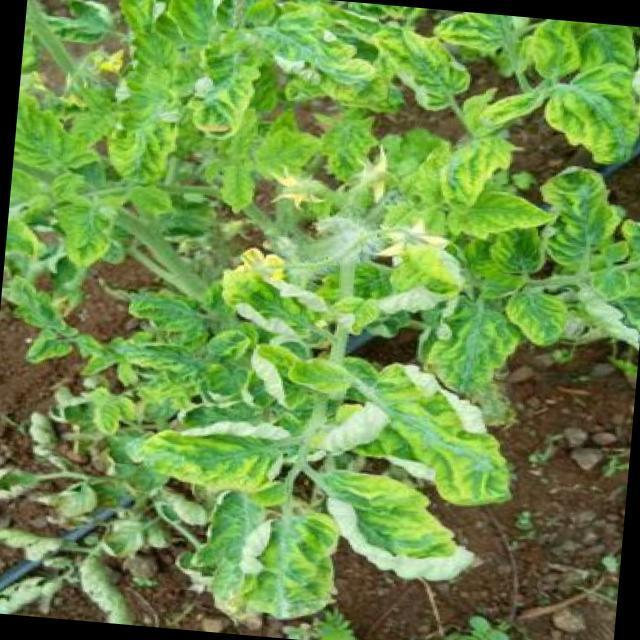Yellow Curl Virus: (359, 351, 532, 509), (308, 464, 484, 596), (218, 8, 376, 102), (116, 412, 289, 492), (238, 512, 338, 621), (541, 157, 628, 275), (542, 66, 640, 166), (372, 21, 474, 117), (42, 187, 126, 272), (99, 104, 185, 183), (438, 189, 546, 243), (501, 276, 574, 350)
